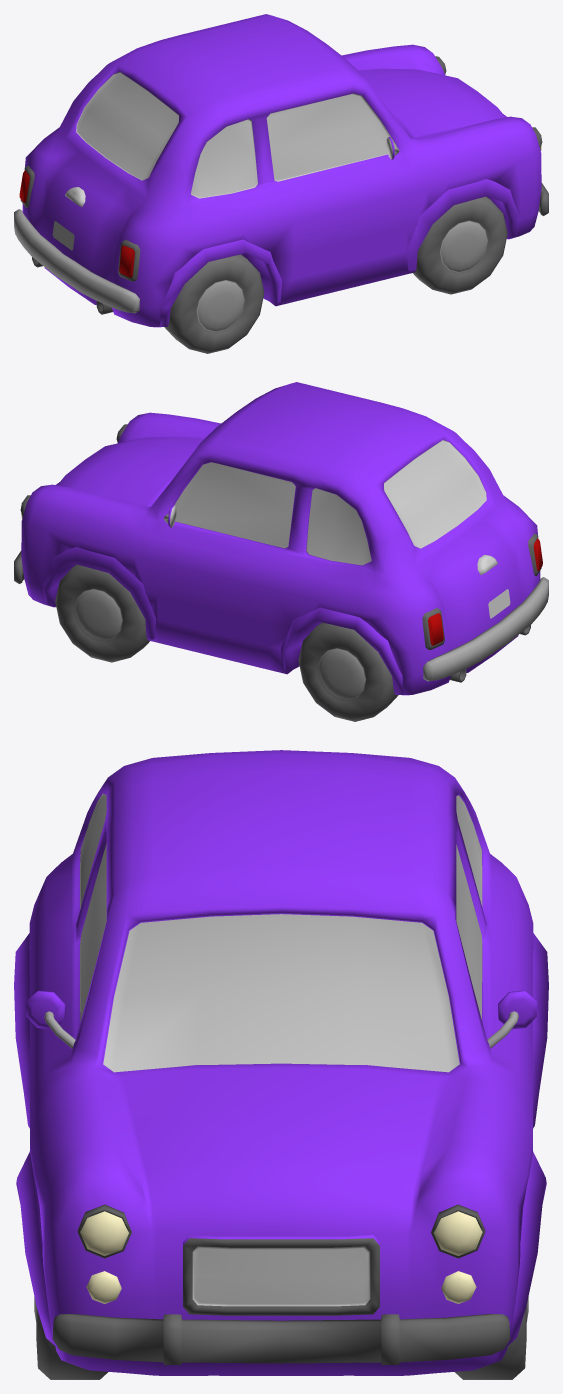
Rendered from car_02.fbx.
The picture shows the model from 3 angles, top to bottom: view 1: azimuth 30°, elevation 25°; view 2: azimuth 150°, elevation 25°; view 3: azimuth 270°, elevation 25°; orthographic projection. The views are drawn at different scales.
Parts seen in each view (by area): view 1: Cube.003, Cube.005, Cube.006; view 2: Cube.003, Cube.004, Cube.002; view 3: Cube.003, Cube.002, Cube.006.
Part boxes in pixels (box(x1,y1,x2,y2)): Cube.003: box(14, 14, 548, 327); Cube.005: box(164, 254, 264, 353); Cube.006: box(413, 196, 507, 294); Cube.003: box(14, 382, 548, 695); Cube.004: box(298, 622, 398, 721); Cube.002: box(55, 564, 149, 662); Cube.003: box(14, 750, 548, 1375); Cube.002: box(455, 1296, 528, 1379); Cube.006: box(34, 1296, 107, 1379).
Bounding box in the file's own units: 432 × 215 × 246.
Materials: 1 (1 with a texture image).
